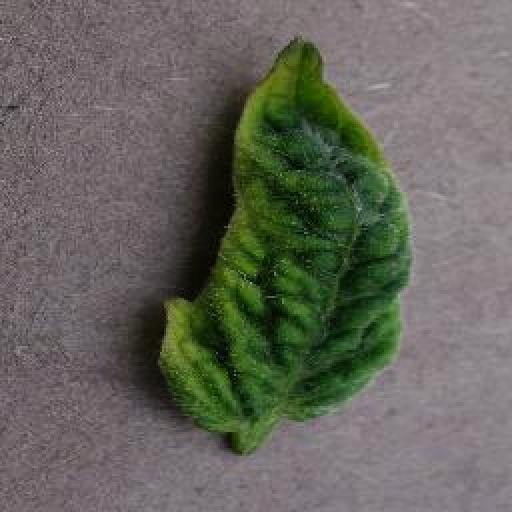disease_tomato: (160, 30, 410, 438)
